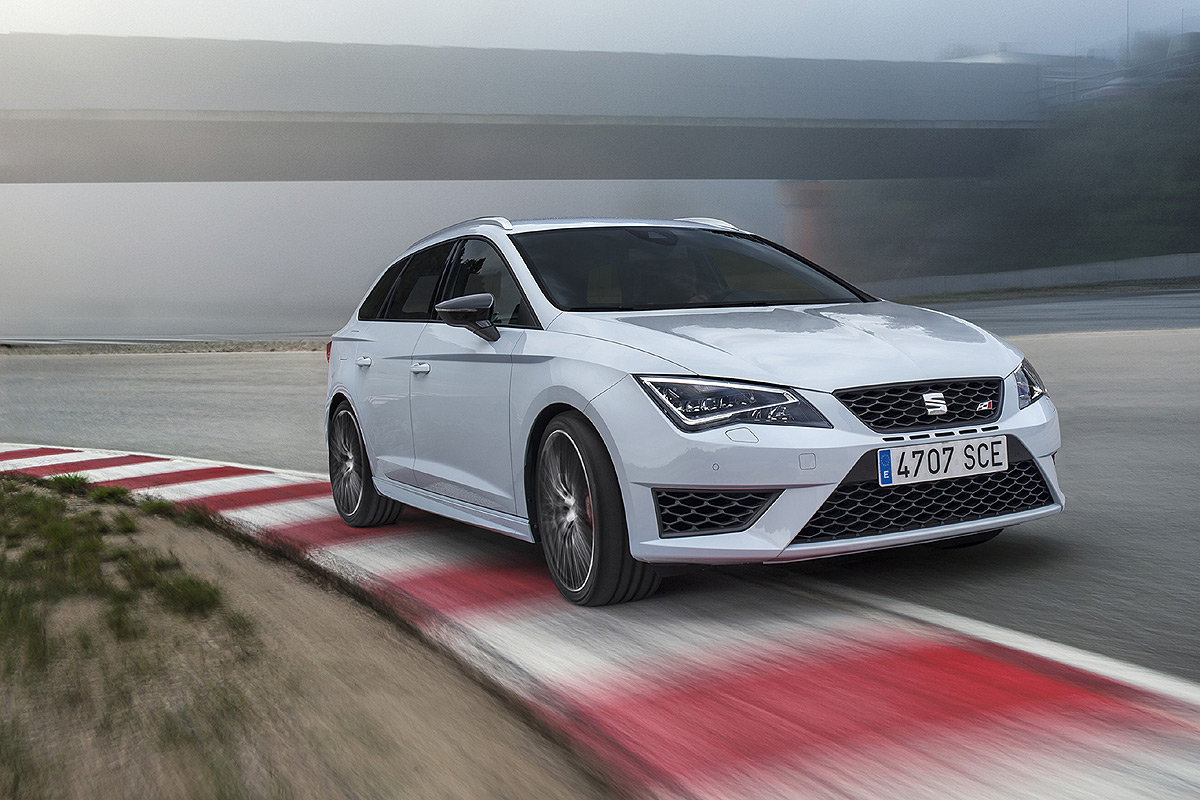car: (308, 208, 1081, 593)
